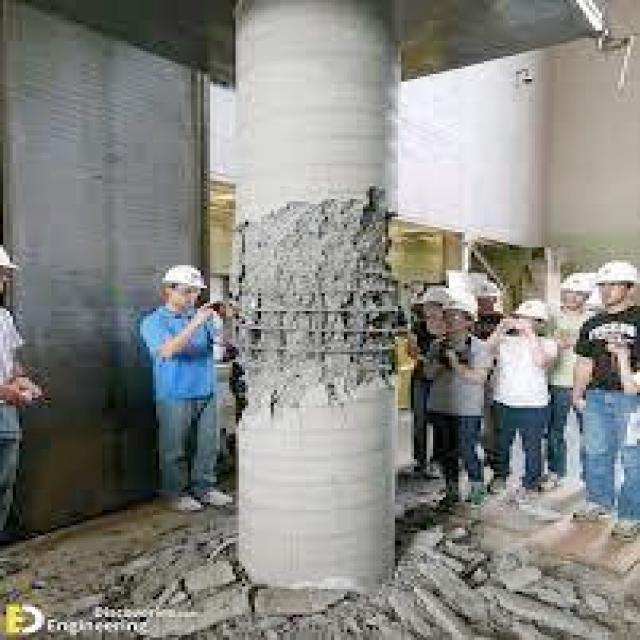Buckling_Beam: (190, 0, 471, 605)
